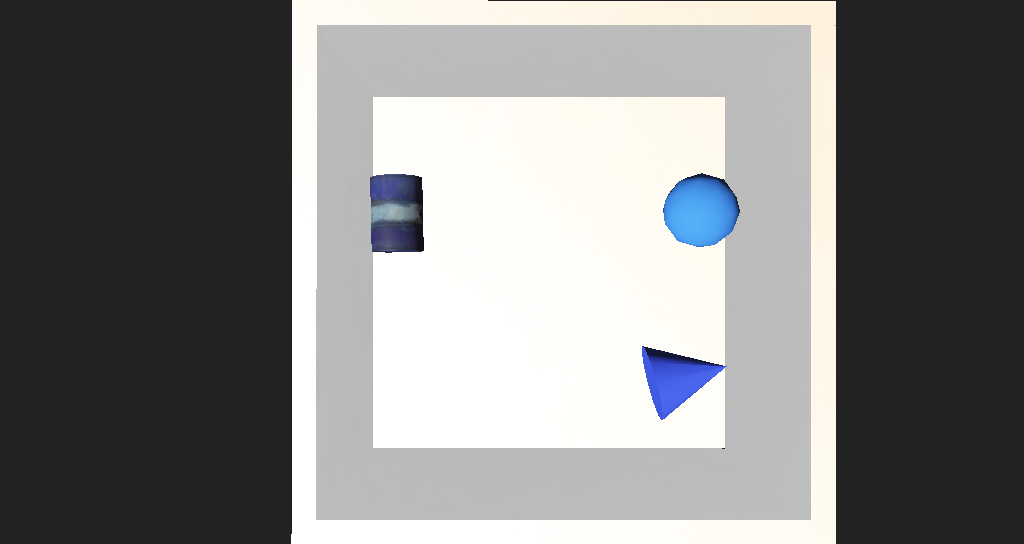cone: (344, 210, 397, 258)
cylinder: (579, 298, 674, 370)
sphere: (600, 212, 667, 255)
